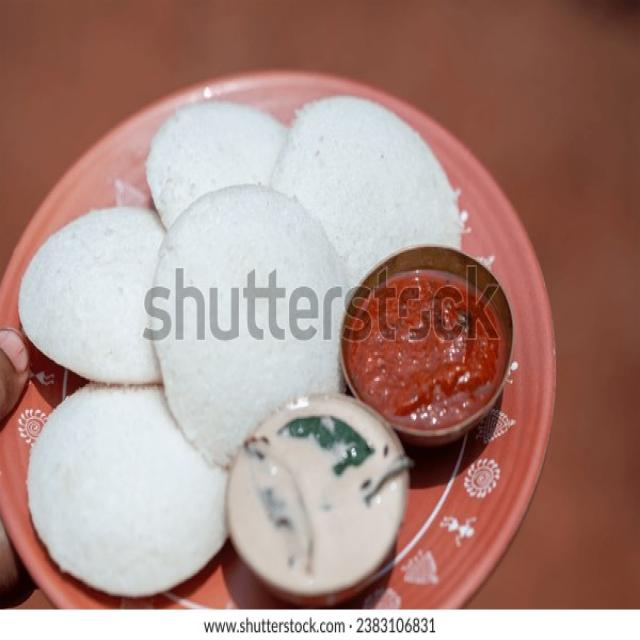IDLI: (17, 92, 464, 601)
